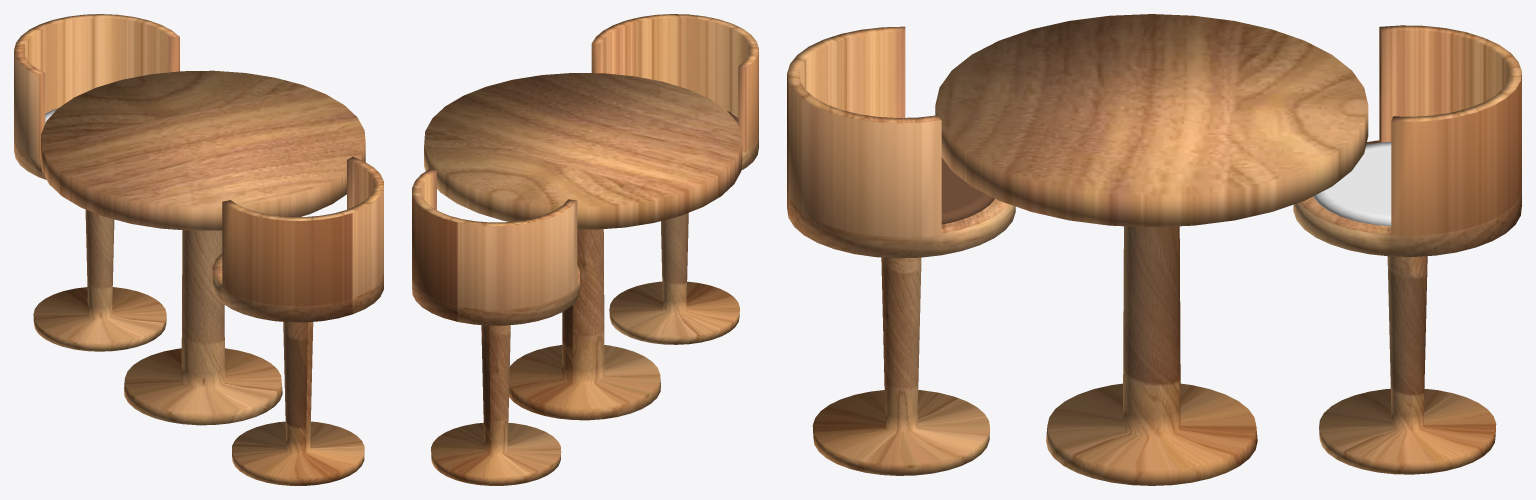
Rendered from table_chair.glb.
3 renders of one model, left to right at view 1: azimuth 30°, elevation 25°; view 2: azimuth 150°, elevation 25°; view 3: azimuth 270°, elevation 25°, orthographic. The views are drawn at different scales.
Visible parts, largest first — view 1: Cylinder.002, Cylinder.003, Cylinder; view 2: Cylinder.002, Cylinder, Cylinder.003; view 3: Cylinder.002, Cylinder.003, Cylinder, Cylinder.001, Cylinder.004.
Part boxes in pixels (x1,y1,x2,y2): Cylinder.002: (41, 70, 365, 425); Cylinder.003: (212, 157, 383, 485); Cylinder: (14, 14, 179, 351); Cylinder.002: (424, 73, 742, 420); Cylinder: (412, 169, 579, 485); Cylinder.003: (591, 14, 758, 344); Cylinder.002: (935, 14, 1368, 485); Cylinder.003: (787, 26, 1015, 475); Cylinder: (1293, 25, 1521, 474); Cylinder.001: (1313, 141, 1391, 226); Cylinder.004: (941, 157, 994, 224).
Size of what is drawn, in the model's own units: 3.49 by 3.27 by 5.92.
5 materials, 3 textured.
